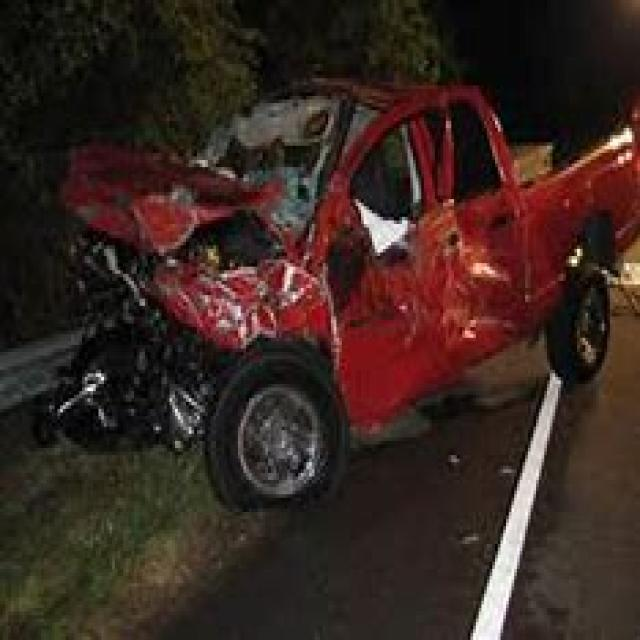single accident: (111, 93, 549, 409)
